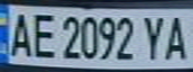0: (78, 12, 100, 61)
2: (57, 11, 81, 61), (115, 12, 139, 62)
9: (97, 12, 118, 61)
A: (3, 8, 36, 59), (160, 11, 193, 62)
E: (27, 10, 60, 60)
Y: (139, 11, 172, 61)
